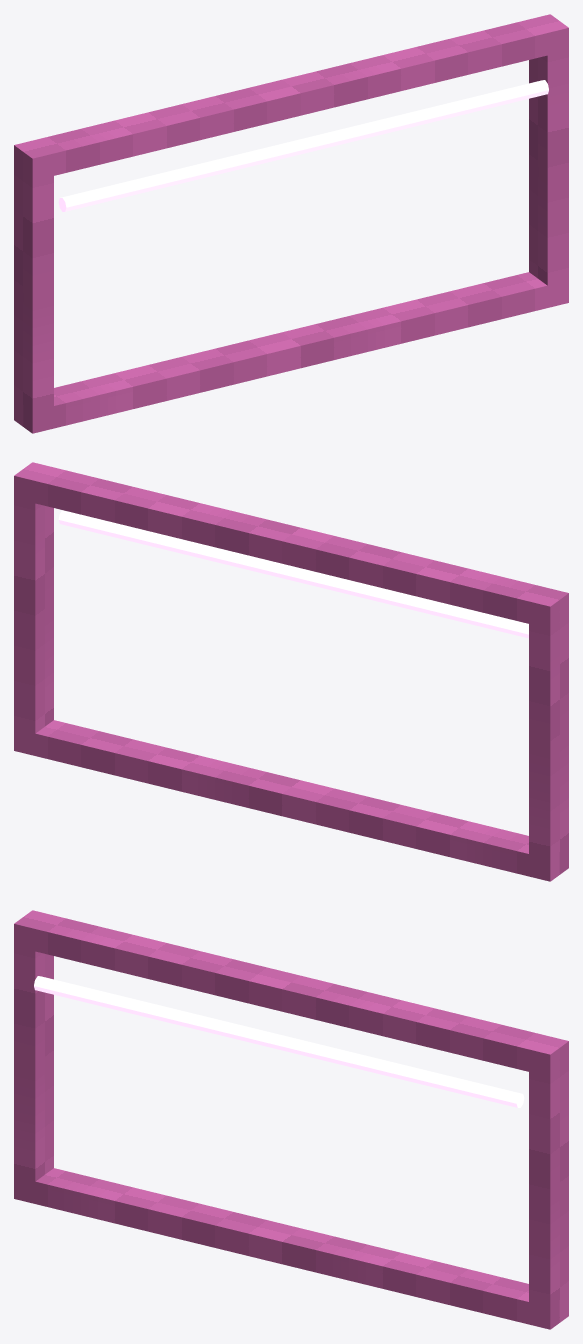
File: three-d-retro-arcade-and-mall-1989-retro-arcade-and-mall-1989-neon-sign-frame-95562d04.glb
The picture shows the model from 3 angles, top to bottom: view 1: azimuth 30°, elevation 25°; view 2: azimuth 150°, elevation 25°; view 3: azimuth 330°, elevation 25°; orthographic projection.
Parts seen in each view (by area): view 1: neon-sign-frame; view 2: neon-sign-frame; view 3: neon-sign-frame.
Part boxes in pixels (left/top/right/bottom): neon-sign-frame: left=14, top=14, right=568, bottom=433; neon-sign-frame: left=14, top=462, right=568, bottom=881; neon-sign-frame: left=14, top=910, right=568, bottom=1329.
Bounding box in the file's own units: 2 × 0.9801 × 0.165.
Materials: 2 (1 with a texture image).
